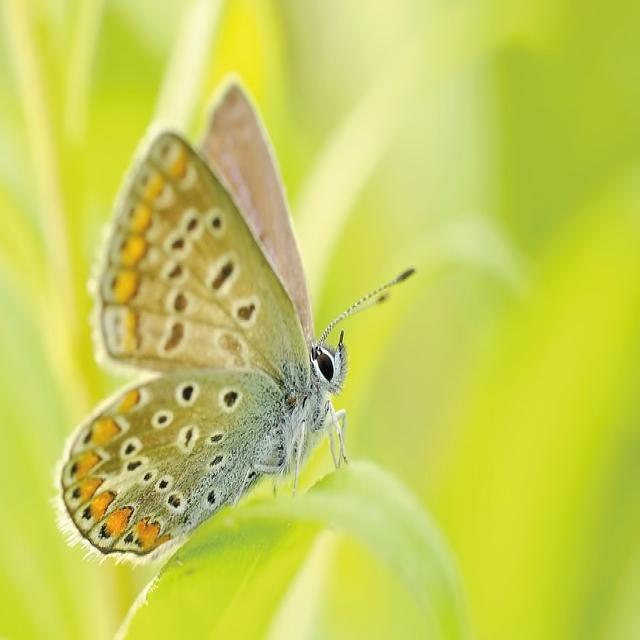butterfly: (59, 83, 410, 559)
